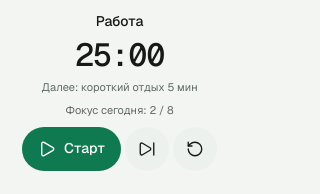
Test case: TimerWidget › запускает интервал по абсолютному endsAt
Check: the text "Работа" is shown, box [96,12,143,30]
Check: the text "25:00" is shown, box [75,38,164,72]
Click the button "Старт": {"x": 72, "y": 149} [22,127,121,171]
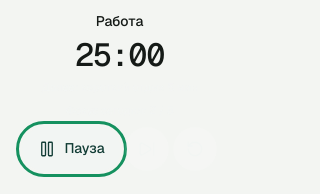
Check: the button "Пауза" is shown, box [22,127,120,171]
